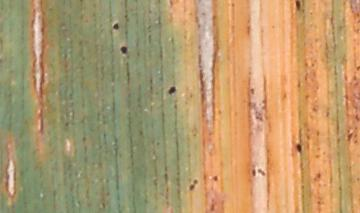tarspot: (167, 85, 177, 96), (257, 167, 266, 176), (294, 1, 301, 12), (119, 45, 128, 53), (295, 143, 302, 153), (251, 167, 257, 177), (112, 23, 120, 30), (188, 183, 195, 191), (192, 179, 199, 184), (213, 175, 218, 182)
